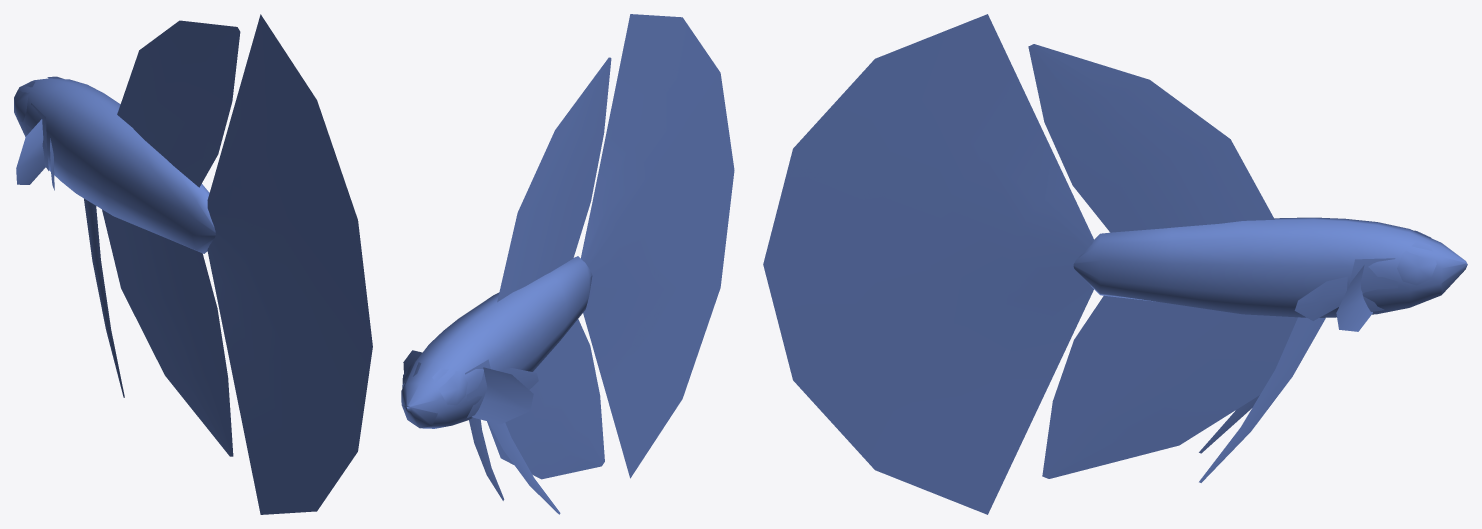
Rendered from betta_lo.glb.
3 views of the same model, side by side, from view 1: azimuth 30°, elevation 25°; view 2: azimuth 150°, elevation 25°; view 3: azimuth 270°, elevation 25° (orthographic). The views are drawn at different scales.
Visible parts, largest first — view 1: betta_lo; view 2: betta_lo; view 3: betta_lo.
Part boxes in pixels (x1,y1,x2,y2): betta_lo: [14, 14, 372, 514]; betta_lo: [401, 14, 734, 514]; betta_lo: [763, 14, 1467, 514].
Size of the model in its own units: 0.0149 by 0.0506 by 0.0645.
